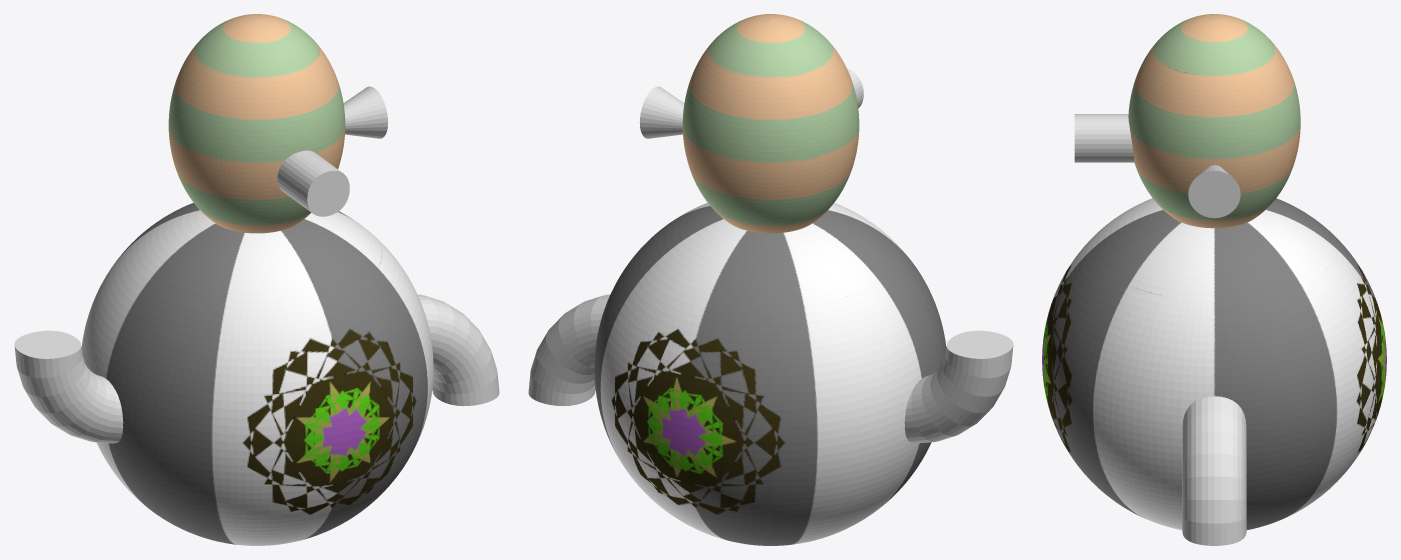
File: BOD0_BMC2_BCC0_BPT2_FRC5_HEA2_HMC14_HCC12_HPT1_ELT0_ERT3_ELL1_ERL0_AP3_AAL1_AAR2_BEK1.fbx
3 views of the same model, side by side, from view 1: azimuth 30°, elevation 25°; view 2: azimuth 150°, elevation 25°; view 3: azimuth 270°, elevation 25° (orthographic). The views are drawn at different scales.
Visible parts, largest first — view 1: Body, Arm.001, Arm, Beak, Ear; view 2: Body, Arm.001, Arm, Ear; view 3: Body, Arm, Beak, Ear.
Boxes of the visible parts, left/top/right/bottom form: Body: left=81, top=14, right=433, bottom=545; Arm.001: left=14, top=330, right=123, bottom=443; Arm: left=418, top=294, right=499, bottom=406; Beak: left=277, top=150, right=349, bottom=216; Ear: left=343, top=86, right=388, bottom=138; Body: left=594, top=14, right=946, bottom=545; Arm.001: left=904, top=330, right=1013, bottom=443; Arm: left=528, top=294, right=609, bottom=406; Ear: left=639, top=86, right=684, bottom=138; Body: left=1042, top=14, right=1386, bottom=529; Arm: left=1182, top=396, right=1246, bottom=545; Beak: left=1074, top=114, right=1134, bottom=162; Ear: left=1188, top=165, right=1240, bottom=218.
Bounding box in the file's own units: 76.63 × 78.65 × 49.36.
Materials: 1 (1 with a texture image).
